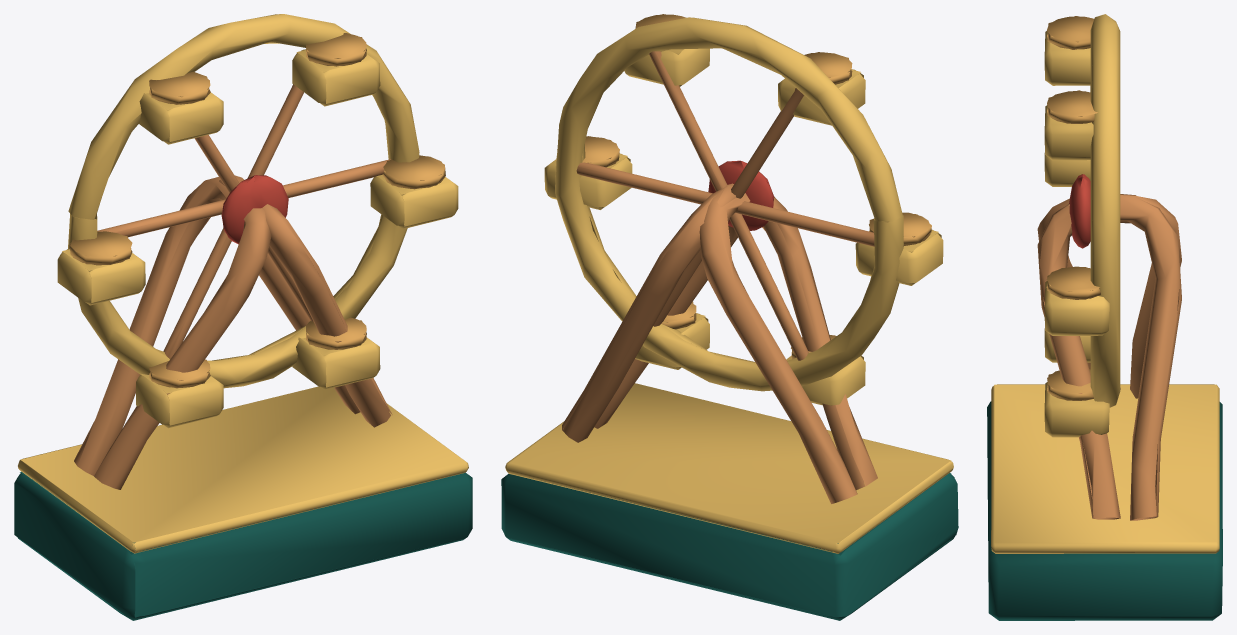
3 renders of one model, left to right at view 1: azimuth 30°, elevation 25°; view 2: azimuth 150°, elevation 25°; view 3: azimuth 270°, elevation 25°, orthographic. The views are drawn at different scales.
Parts seen in each view (by area): view 1: Maple wheel, Brass welt, Jade footing, Wheel stand, Pancake cushion, Wheel spoke, Maple centre; view 2: Maple wheel, Brass welt, Jade footing, Wheel stand, Wheel spoke, Pancake cushion, Maple centre; view 3: Brass welt, Maple wheel, Wheel stand, Jade footing, Pancake cushion, Maple centre.
Boxes of the visible parts, left/top/right/bottom form: Maple wheel: left=57, top=14, right=458, bottom=428; Brass welt: left=18, top=386, right=468, bottom=553; Jade footing: left=14, top=471, right=472, bottom=620; Wheel stand: left=74, top=175, right=392, bottom=489; Pancake cushion: left=69, top=33, right=445, bottom=388; Wheel spoke: left=97, top=84, right=391, bottom=358; Maple centre: left=221, top=175, right=288, bottom=244; Maple wheel: left=544, top=17, right=943, bottom=405; Brass welt: left=505, top=383, right=953, bottom=553; Jade footing: left=501, top=473, right=958, bottom=620; Wheel stand: left=562, top=183, right=877, bottom=503; Wheel spoke: left=576, top=51, right=874, bottom=360; Pancake cushion: left=557, top=14, right=931, bottom=358; Maple centre: left=708, top=160, right=774, bottom=230; Brass welt: left=991, top=384, right=1219, bottom=553; Maple wheel: left=1044, top=14, right=1120, bottom=437; Wheel stand: left=1037, top=194, right=1181, bottom=520; Jade footing: left=987, top=401, right=1222, bottom=620; Pancake cushion: left=1046, top=16, right=1100, bottom=400; Maple centre: left=1069, top=174, right=1090, bottom=248.
Size of the model in its own units: 0.7446 by 0.9873 by 0.4144.
